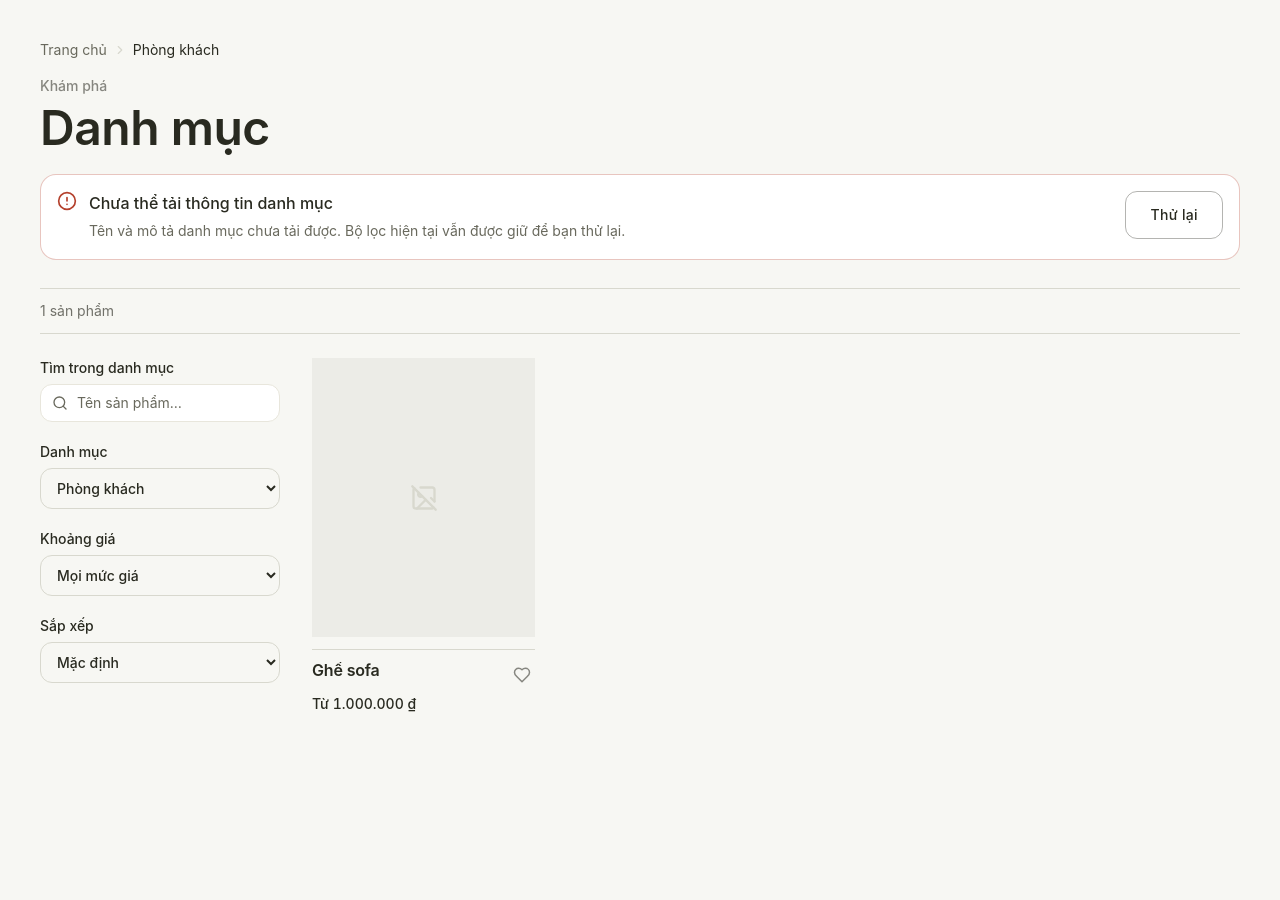
CategoryPage › recovers category metadata independently of loaded products
Expected: the heading "Ghế sofa" is shown, 312,662 -> 380,679
Expected: the message that starts with "Chưa thể tải thông tin danh mục" is shown, 89,193 -> 333,213
Click the button "Thử lại".
click(1174, 215)  # box 1125,191 -> 1223,239
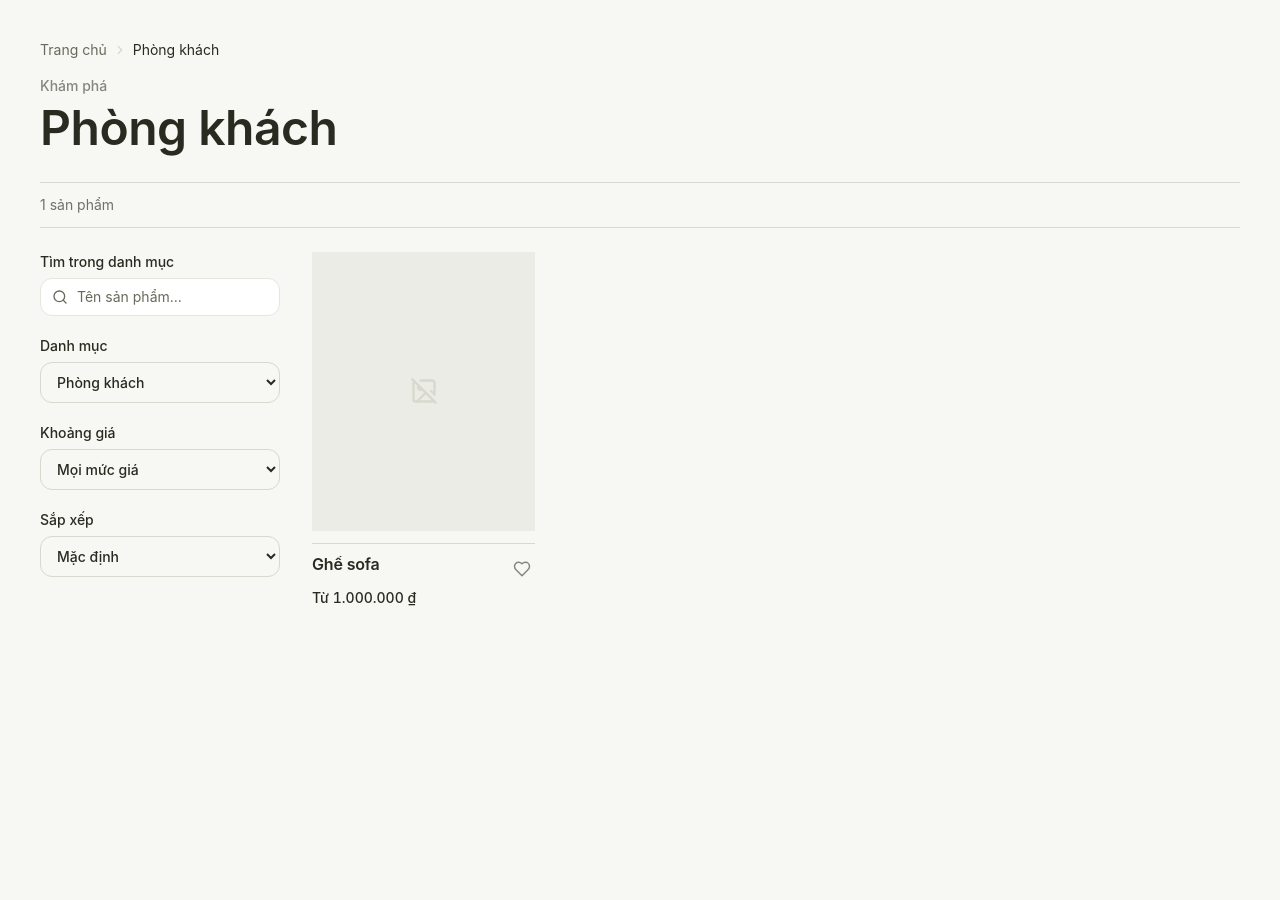
Now the heading "Phòng khách" is shown, box 40,98 -> 337,157
